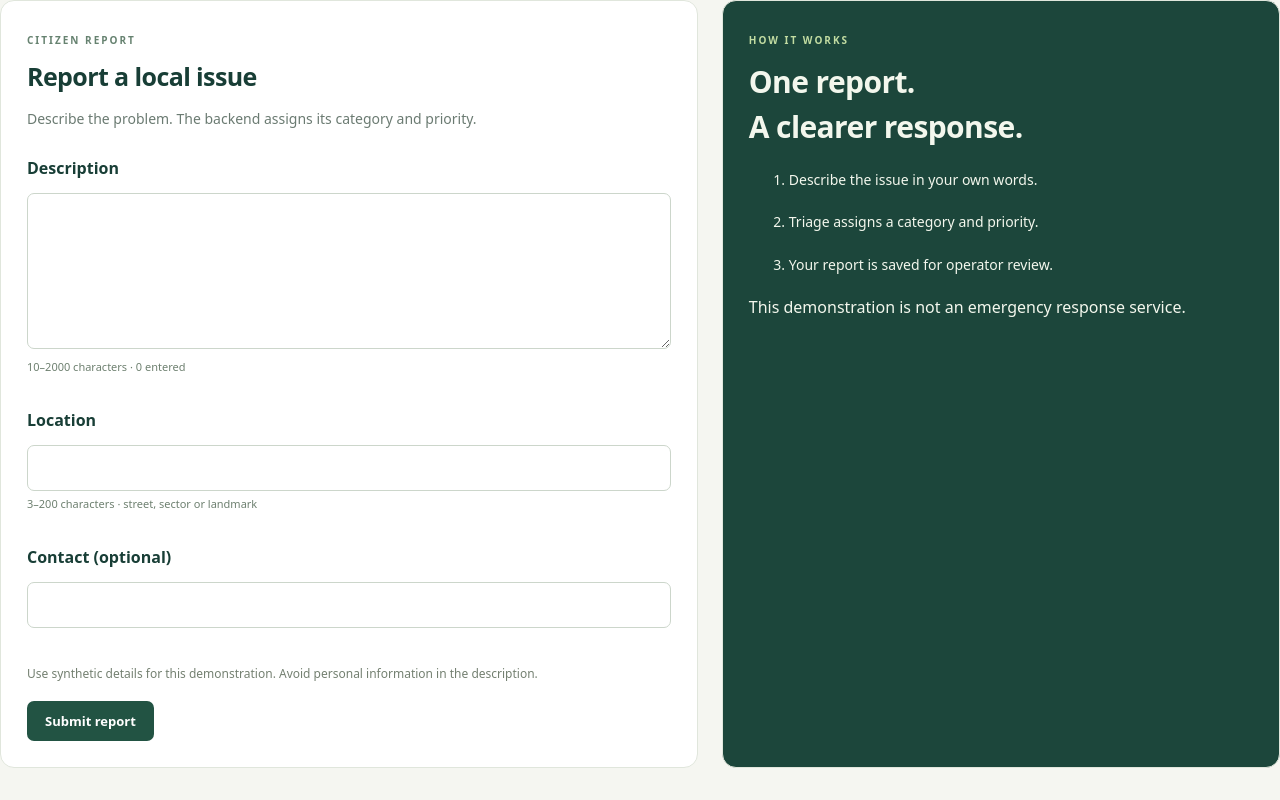
it: complaint submission › renders server field validation errors
This screenshot has width=1280, height=800.
Type "  Burst water pipe flooding the street.  " into the text box labelled "Description" at [349, 271], box [27,193,671,349]
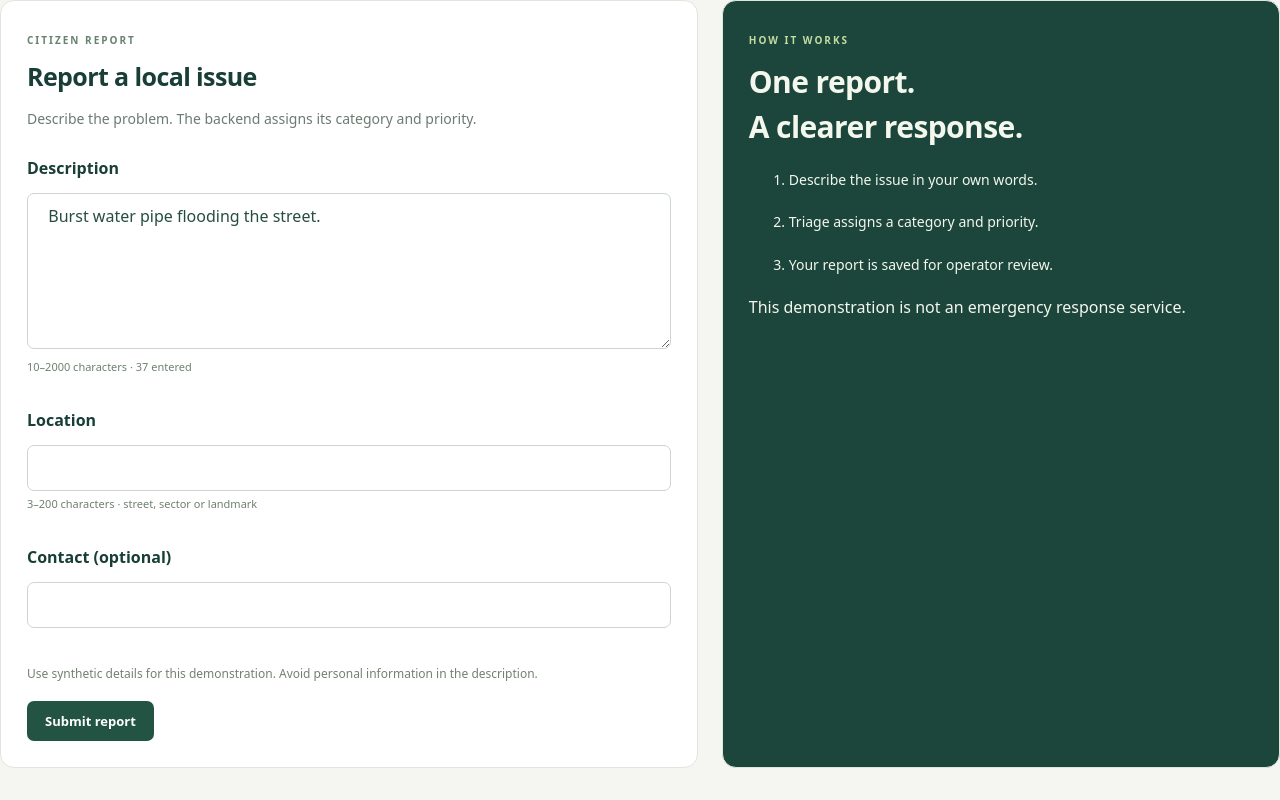
Type "  Synthetic Street  " into the field labelled "Location" at [349, 468], box [27,445,671,491]
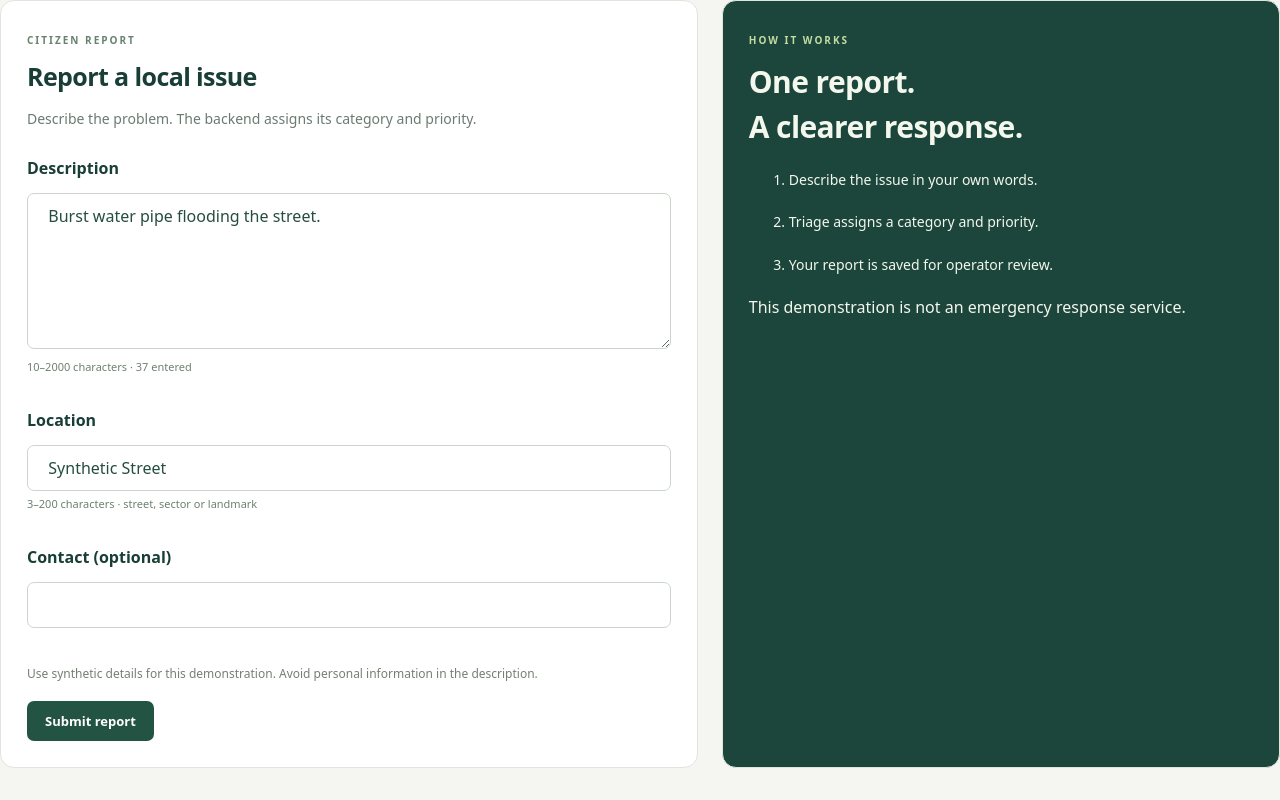
Click the button "Submit report" at [90, 721], box [27,701,154,741]
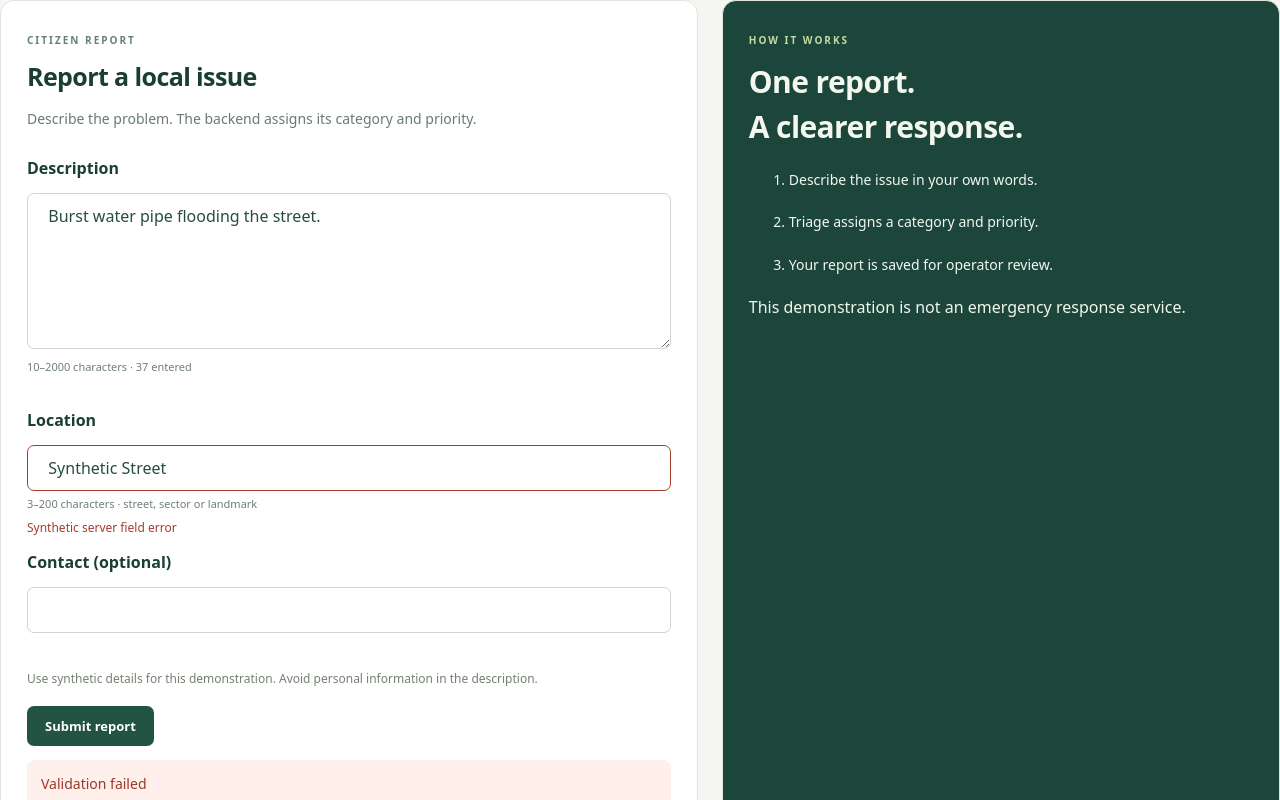
Now the message reads "Validation failed", box [41,774,146,793]
Now the text "Synthetic server field error" is shown, box [27,519,177,536]
